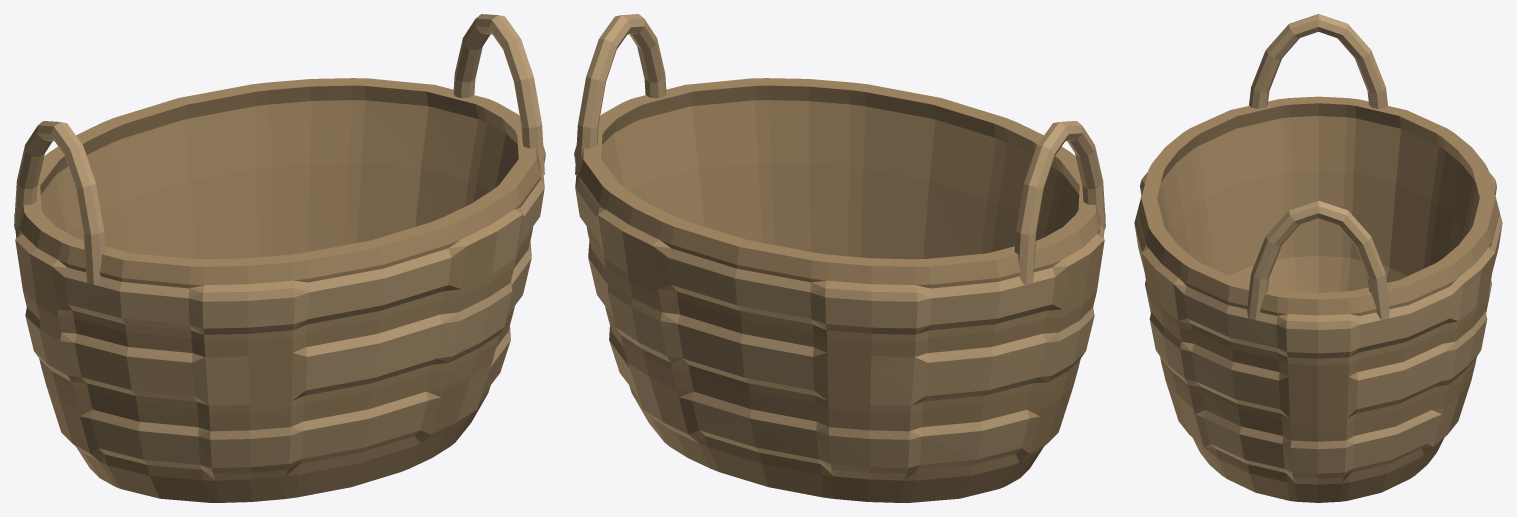
The picture shows the model from 3 angles, left to right: view 1: azimuth 30°, elevation 25°; view 2: azimuth 150°, elevation 25°; view 3: azimuth 270°, elevation 25°; orthographic projection. The views are drawn at different scales.
Visible parts, largest first — view 1: village-open-harvest-basket-01; view 2: village-open-harvest-basket-01; view 3: village-open-harvest-basket-01.
Boxes of the visible parts, x1,y1,x2,y2 form: village-open-harvest-basket-01: (14, 14, 545, 502); village-open-harvest-basket-01: (574, 14, 1105, 502); village-open-harvest-basket-01: (1134, 14, 1502, 502).
Size of the model in its own units: 0.6411 by 0.447 by 0.4677.
